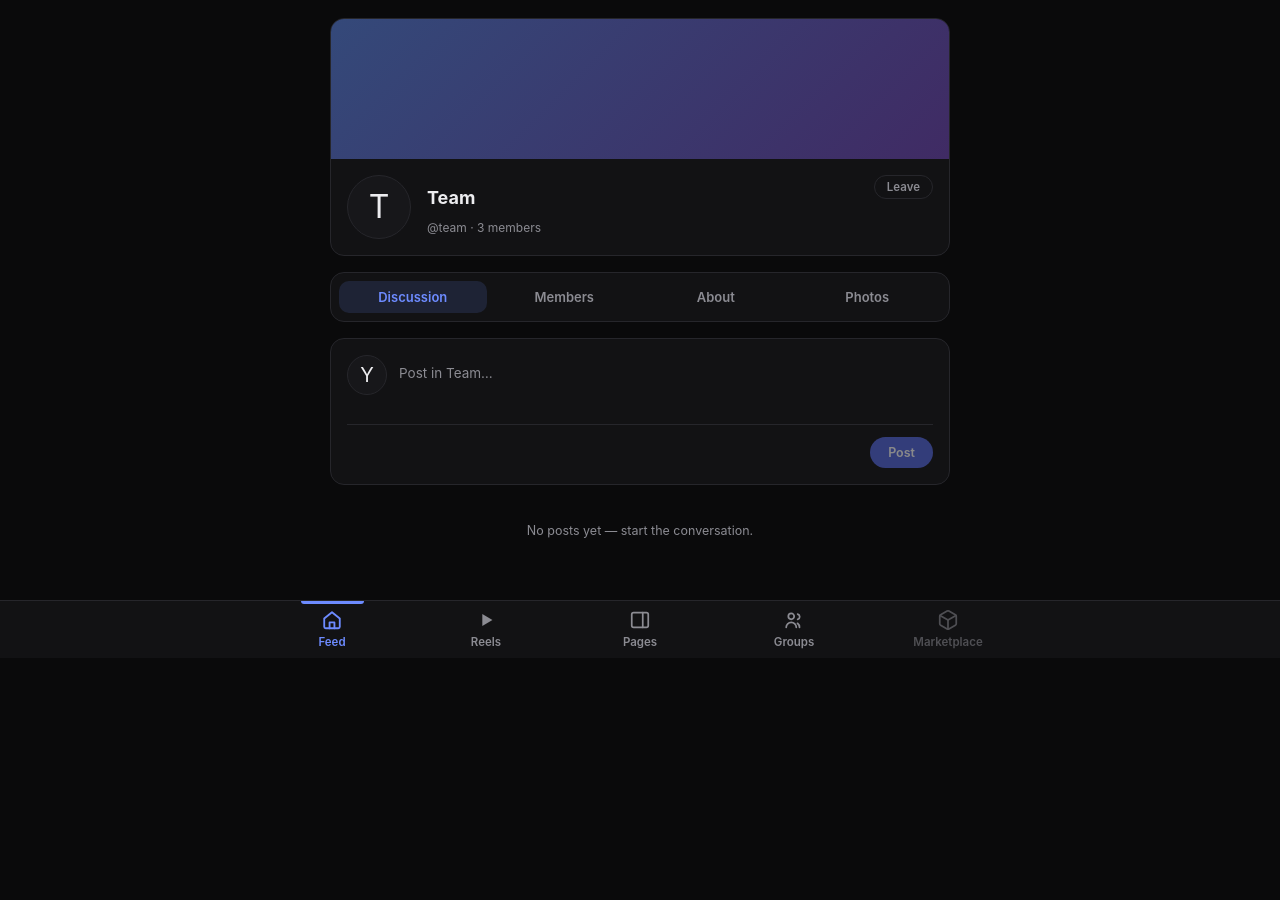
Scenario: Newly published posts render through the shared card › renders a new group post through the same card
Type "group hello" into the text box with placeholder "Post in Team…" at [666, 383], box 399,355 -> 933,412
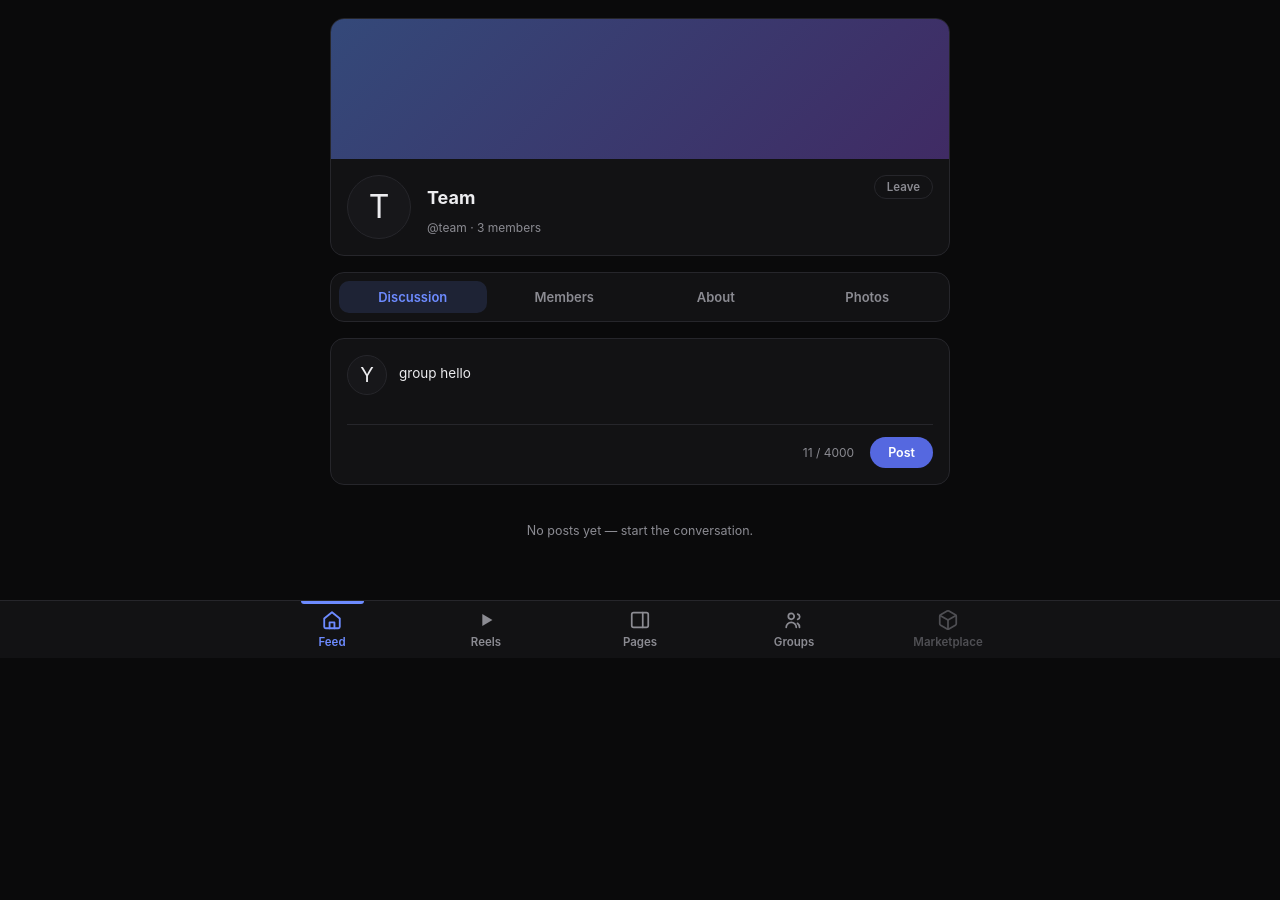
Click the button "Post" at [902, 452], box 870,436 -> 933,468
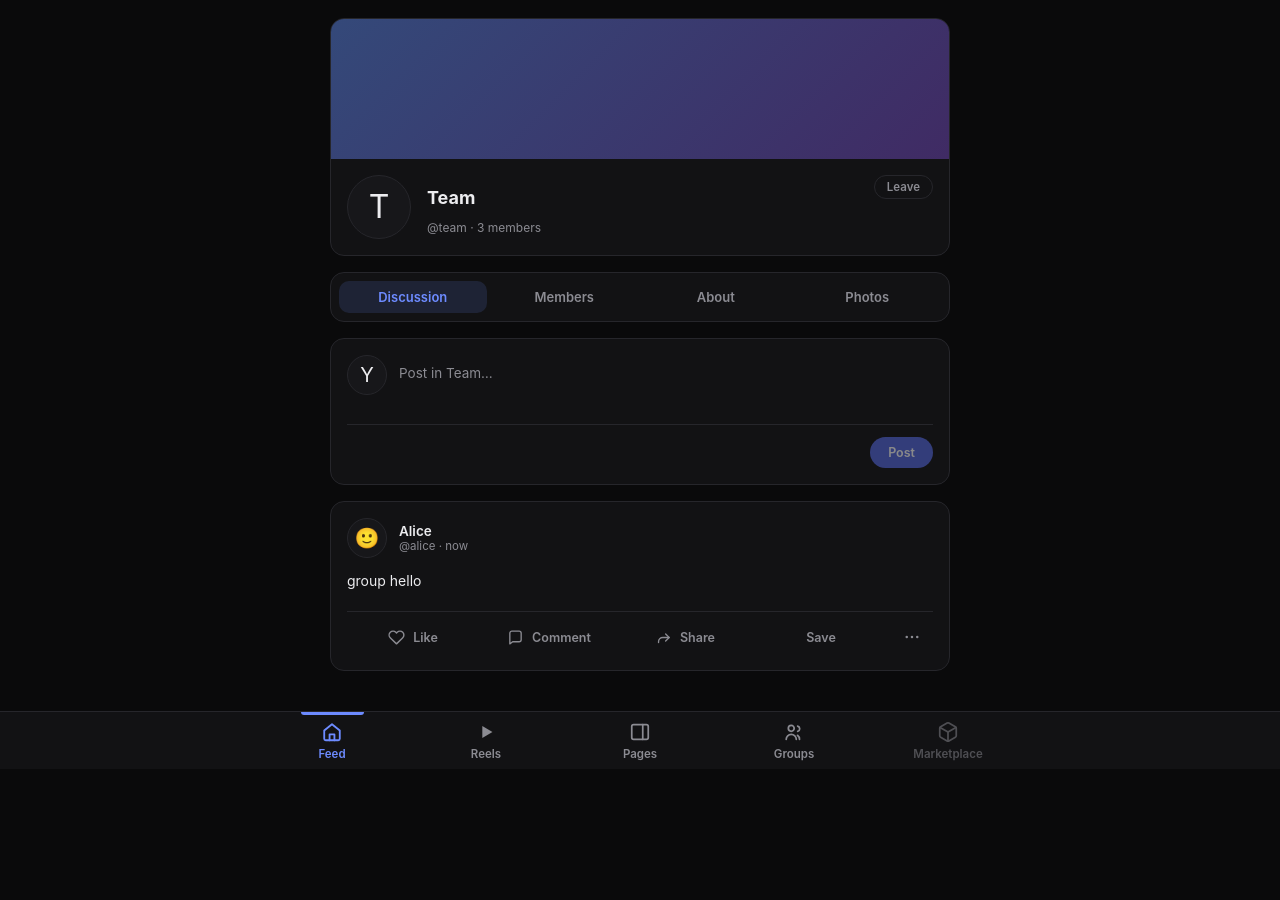
Expected: the element with class "feed-post" shows "group hello", 347,572 -> 421,588
Expected: the element with class "feed-actions" is shown, 347,611 -> 933,654
